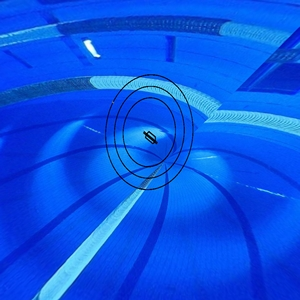circle: (102, 73, 196, 196)
submarine: (139, 128, 163, 151)
